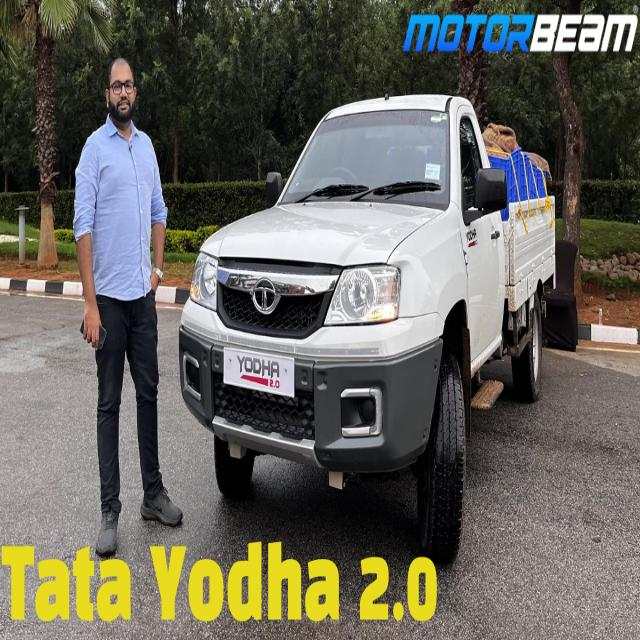light_vehicle: (178, 81, 554, 549)
